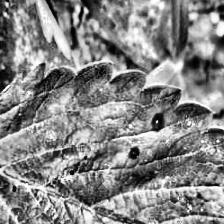Leaf Spot: (0, 60, 224, 224), (0, 0, 81, 107)
